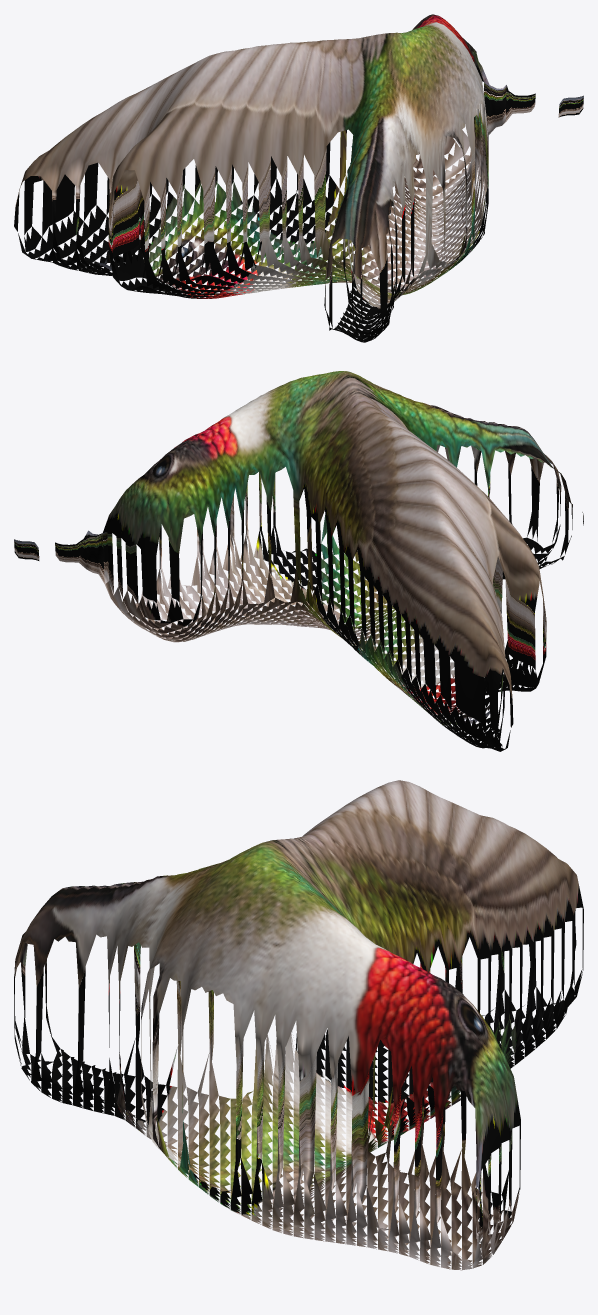
Rendered from hummingbird.glb.
3 renders of one model, top to bottom at view 1: azimuth 30°, elevation 25°; view 2: azimuth 150°, elevation 25°; view 3: azimuth 270°, elevation 25°, orthographic. The views are drawn at different scales.
Visible parts, largest first — view 1: hummingbird_obj; view 2: hummingbird_obj; view 3: hummingbird_obj.
Boxes of the visible parts, x1=… form: hummingbird_obj: x1=14, y1=14, x2=583, y2=342; hummingbird_obj: x1=14, y1=371, x2=583, y2=751; hummingbird_obj: x1=14, y1=780, x2=583, y2=1270.
Size of the model in its own units: 1.75 by 0.8282 by 1.13.
1 material, 1 textured.
